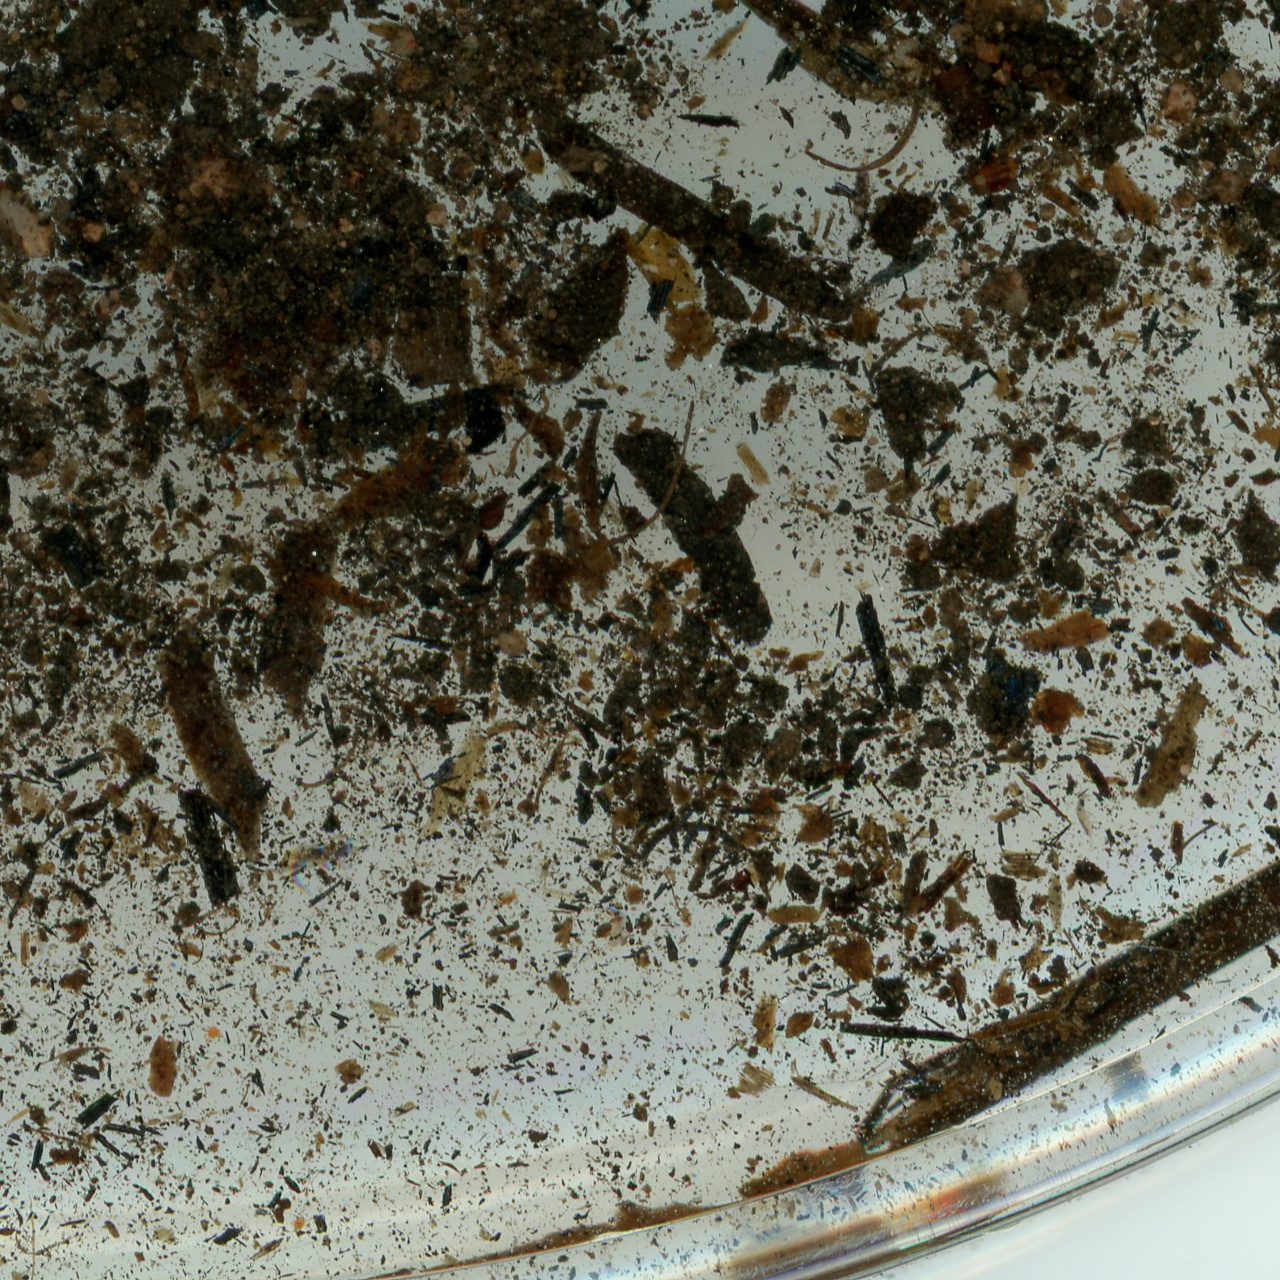arthropod: (284, 832, 356, 893), (1071, 779, 1099, 851), (472, 491, 516, 532), (1047, 870, 1067, 944), (288, 1213, 313, 1234), (205, 1024, 224, 1042)
